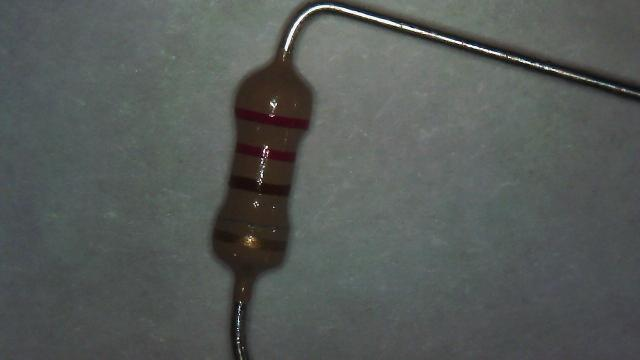brown: (229, 176, 289, 196)
gold: (212, 228, 286, 249)
red: (236, 109, 308, 129), (235, 142, 295, 162)
resistor: (173, 50, 347, 292)
